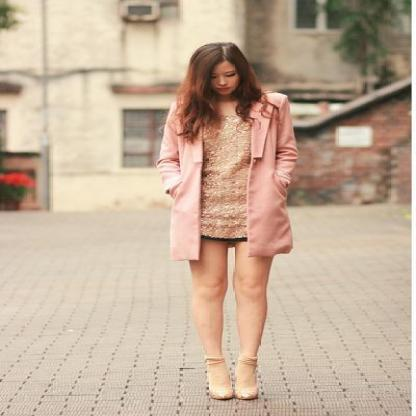dress: (188, 102, 274, 241)
jacket: (153, 92, 297, 262)
shoe: (195, 347, 262, 397)
